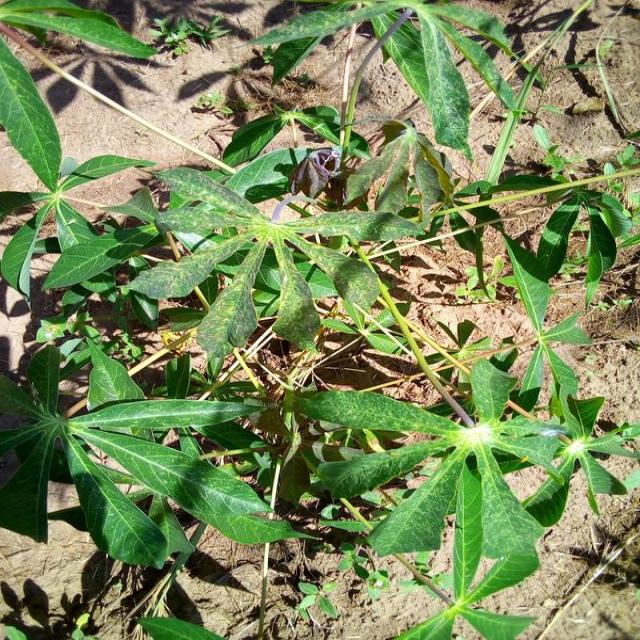cassava leaf: (1, 2, 638, 636), (128, 159, 422, 371)
